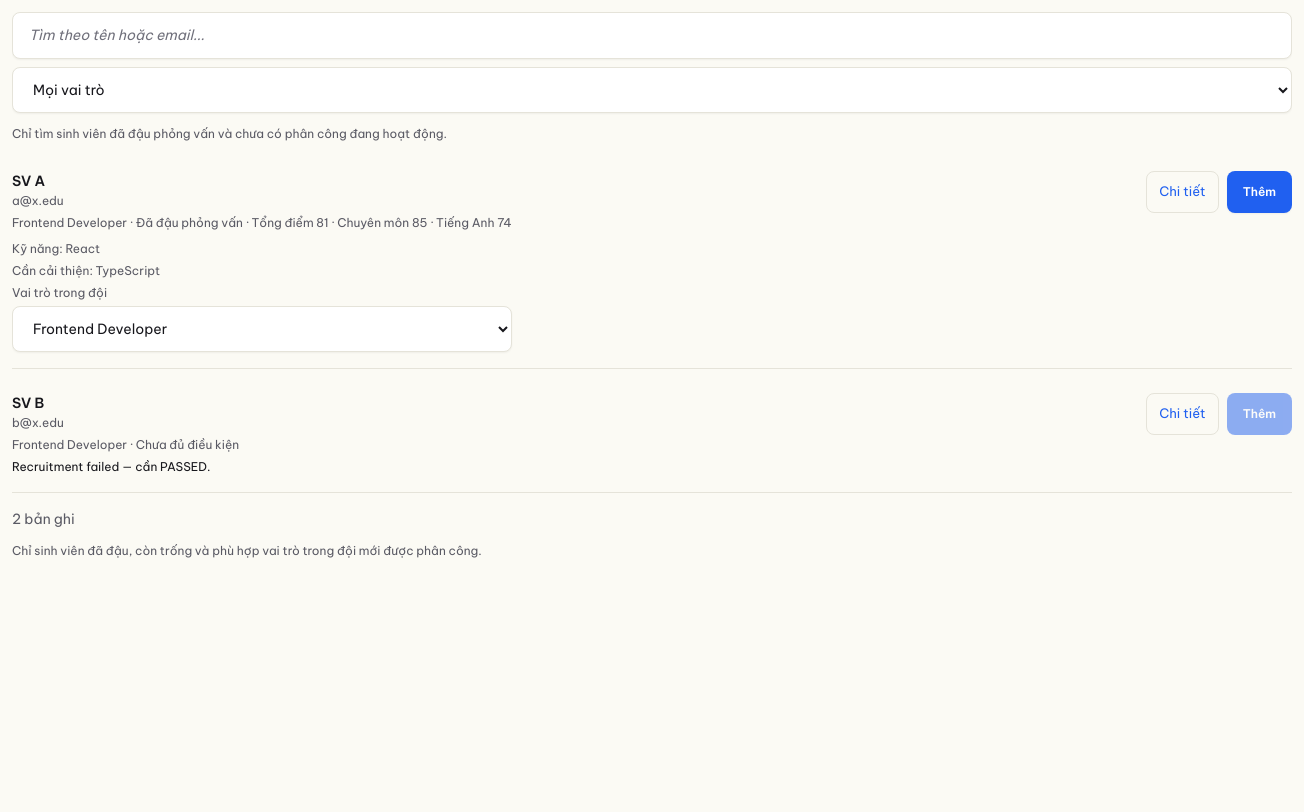
Test case: MemberSelector (M4) › expands interview detail on demand
Expected: the text "SV A" is shown, [12,172,45,190]
Step 1. Click the button "Chi tiết" in the row of "a@x.edu" → (1182, 192), box [1146,171,1219,213]
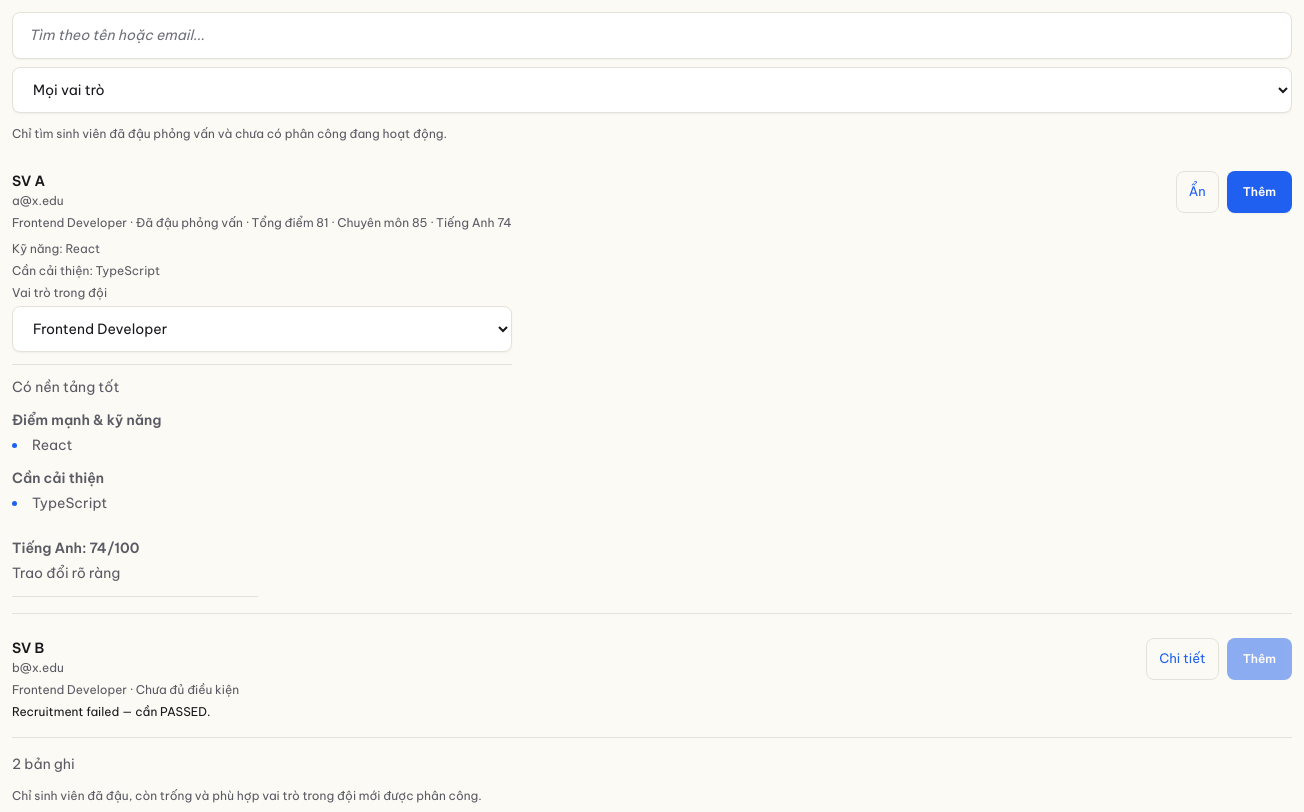
Now the text "Có nền tảng tốt" is shown, box [12,378,120,396]
Now the text "Trao đổi rõ ràng" is shown, box [12,564,120,582]
